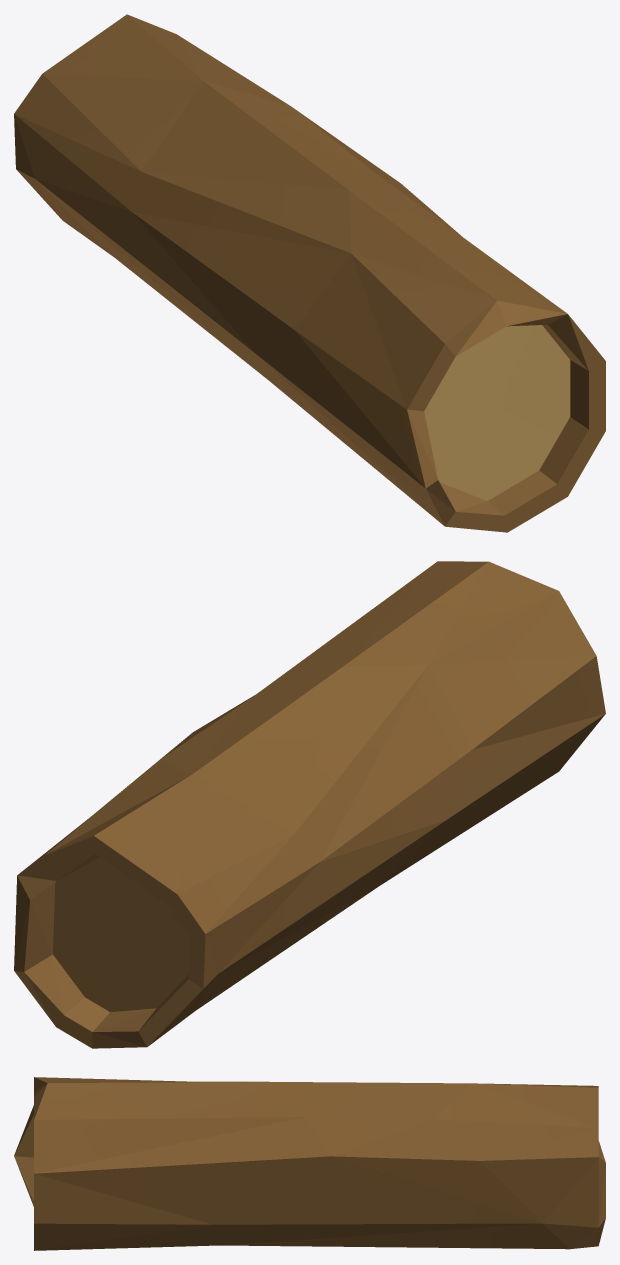
File: log_6.obj
3 renders of one model, top to bottom at view 1: azimuth 30°, elevation 25°; view 2: azimuth 150°, elevation 25°; view 3: azimuth 270°, elevation 25°, orthographic. The views are drawn at different scales.
Visible parts, largest first — view 1: log_6_Material; view 2: log_6_Material; view 3: log_6_Material.
Boxes of the visible parts, left/top/right/bottom form: log_6_Material: left=14, top=14, right=605, bottom=532; log_6_Material: left=14, top=561, right=605, bottom=1048; log_6_Material: left=14, top=1077, right=605, bottom=1250.
Size of the model in its own units: 0.1623 by 0.1753 by 0.5777.
